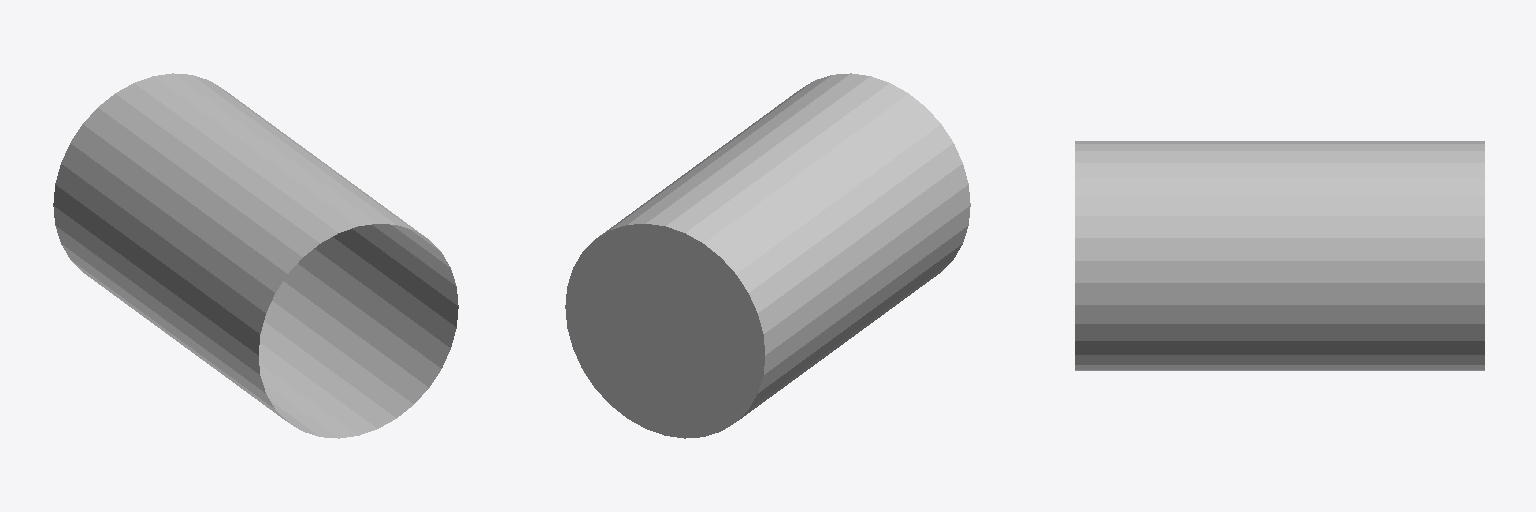
File: reload moving boi3.obj
3 renders of one model, left to right at view 1: azimuth 30°, elevation 25°; view 2: azimuth 150°, elevation 25°; view 3: azimuth 270°, elevation 25°, orthographic.
Visible parts, largest first — view 1: bullet_hole?_Cylinder; view 2: bullet_hole?_Cylinder; view 3: bullet_hole?_Cylinder.
Boxes of the visible parts, x1=… form: bullet_hole?_Cylinder: x1=53, y1=73, x2=458, y2=438; bullet_hole?_Cylinder: x1=565, y1=73, x2=970, y2=438; bullet_hole?_Cylinder: x1=1075, y1=141, x2=1484, y2=370.
Size of the model in its own units: 0.1058 by 0.1058 by 0.188.